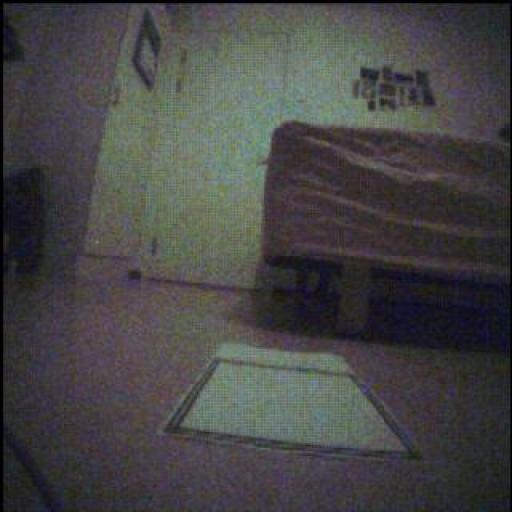pad: (163, 345, 420, 460)
